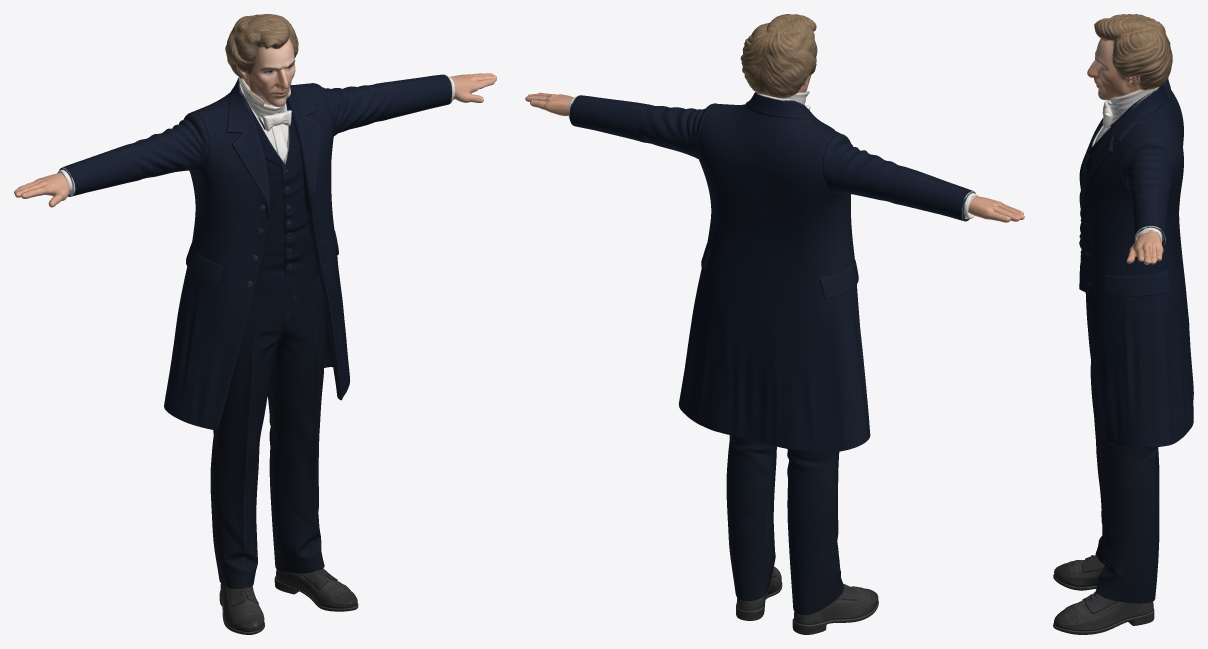
The model's file is joseph-smith-tpose.glb.
The picture shows the model from 3 angles, left to right: view 1: azimuth 30°, elevation 25°; view 2: azimuth 150°, elevation 25°; view 3: azimuth 270°, elevation 25°; orthographic projection. The views are drawn at different scales.
Bounding box in the file's own units: 1.65 × 1.9 × 0.4138.
Materials: 1 (1 with a texture image).
